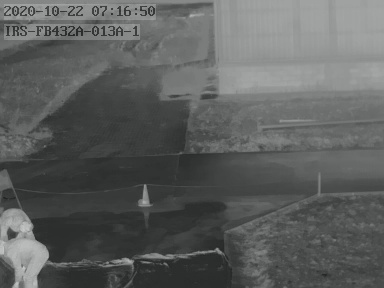person: (1, 236, 47, 288)
vehicle: (1, 206, 33, 238)
